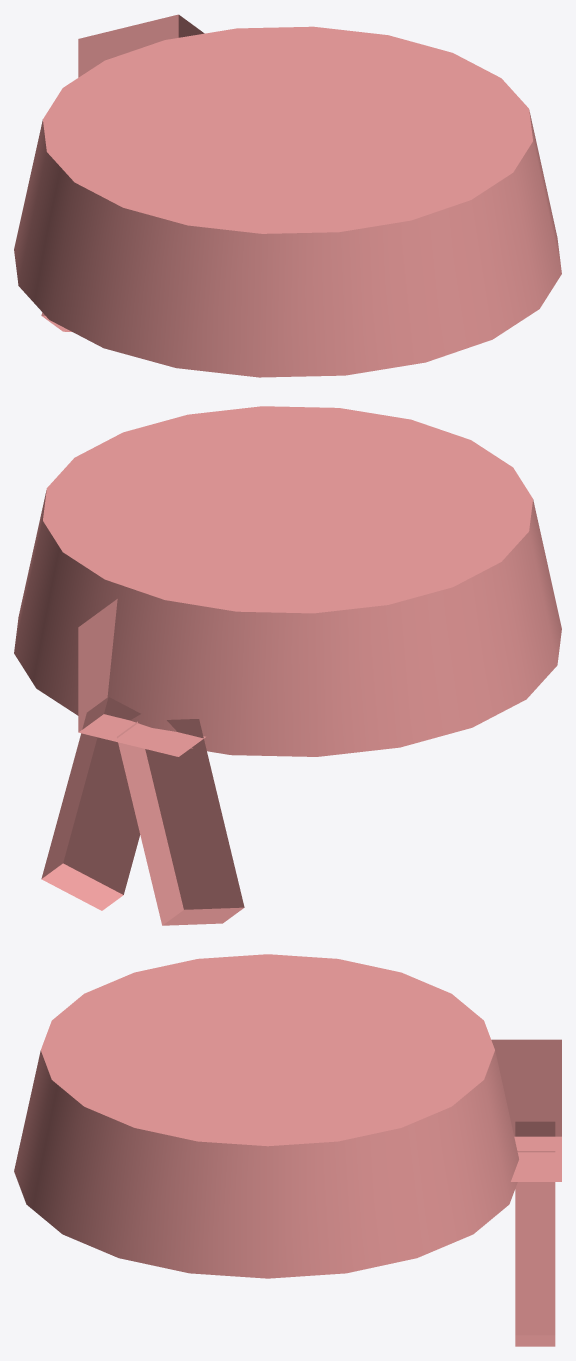
The model's file is lucky_bandana.glb.
3 views of the same model, one above another, from view 1: azimuth 30°, elevation 25°; view 2: azimuth 150°, elevation 25°; view 3: azimuth 270°, elevation 25° (orthographic). The views are drawn at different scales.
Visible parts, largest first — view 1: Lucky Bandana; view 2: Lucky Bandana; view 3: Lucky Bandana.
Boxes of the visible parts, x1,y1,x2,y2 form: Lucky Bandana: (14,14,561,377); Lucky Bandana: (14,406,561,925); Lucky Bandana: (14,954,561,1346).
Size of the model in its own units: 0.38 by 0.2241 by 0.41.
